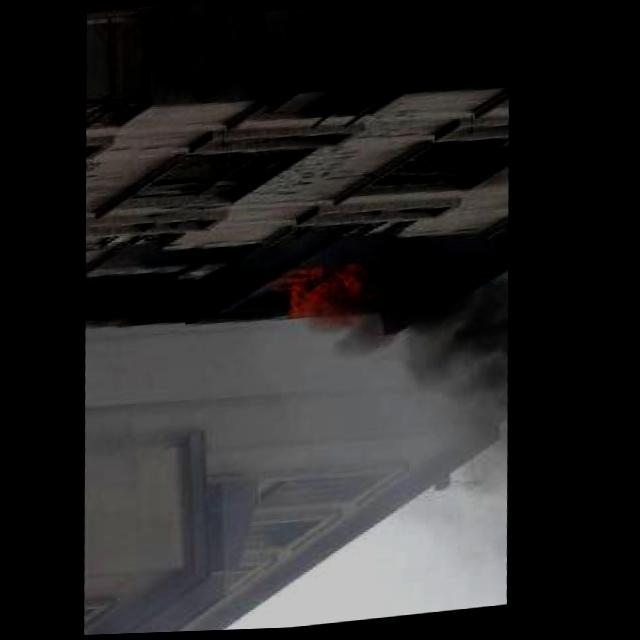Fire: (275, 259, 389, 329)
Smoke: (359, 285, 526, 441)
